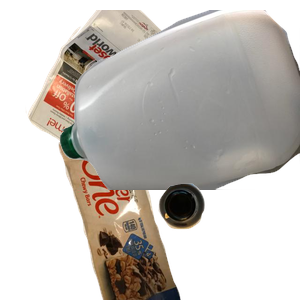glass: (156, 181, 300, 300)
paper: (23, 10, 245, 190)
plastic: (60, 10, 300, 190)
trash: (56, 120, 229, 300)
